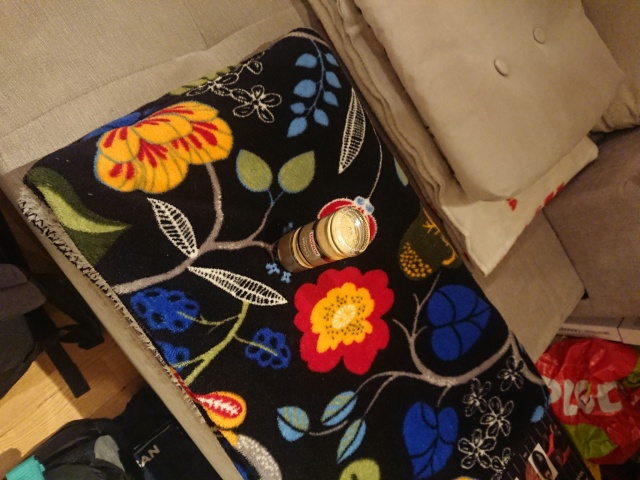Kotanyi Garlic Granules 70g: (272, 204, 372, 275)
